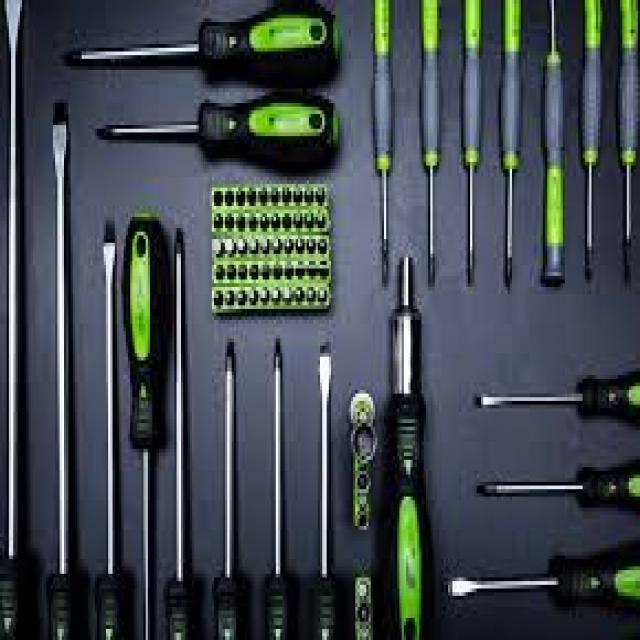screwdriver: (60, 0, 347, 88), (90, 88, 346, 177), (441, 535, 640, 624), (472, 436, 640, 528), (472, 357, 640, 438), (414, 0, 449, 298), (370, 0, 400, 291)
